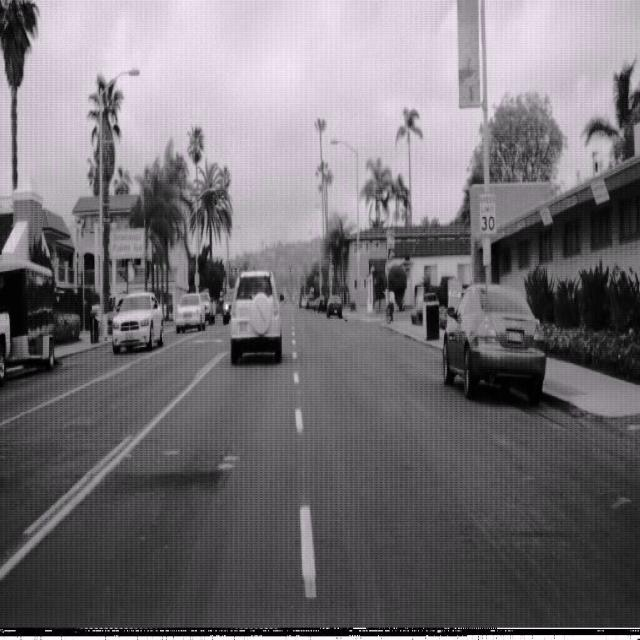speedLimit30: (478, 192, 497, 236)
